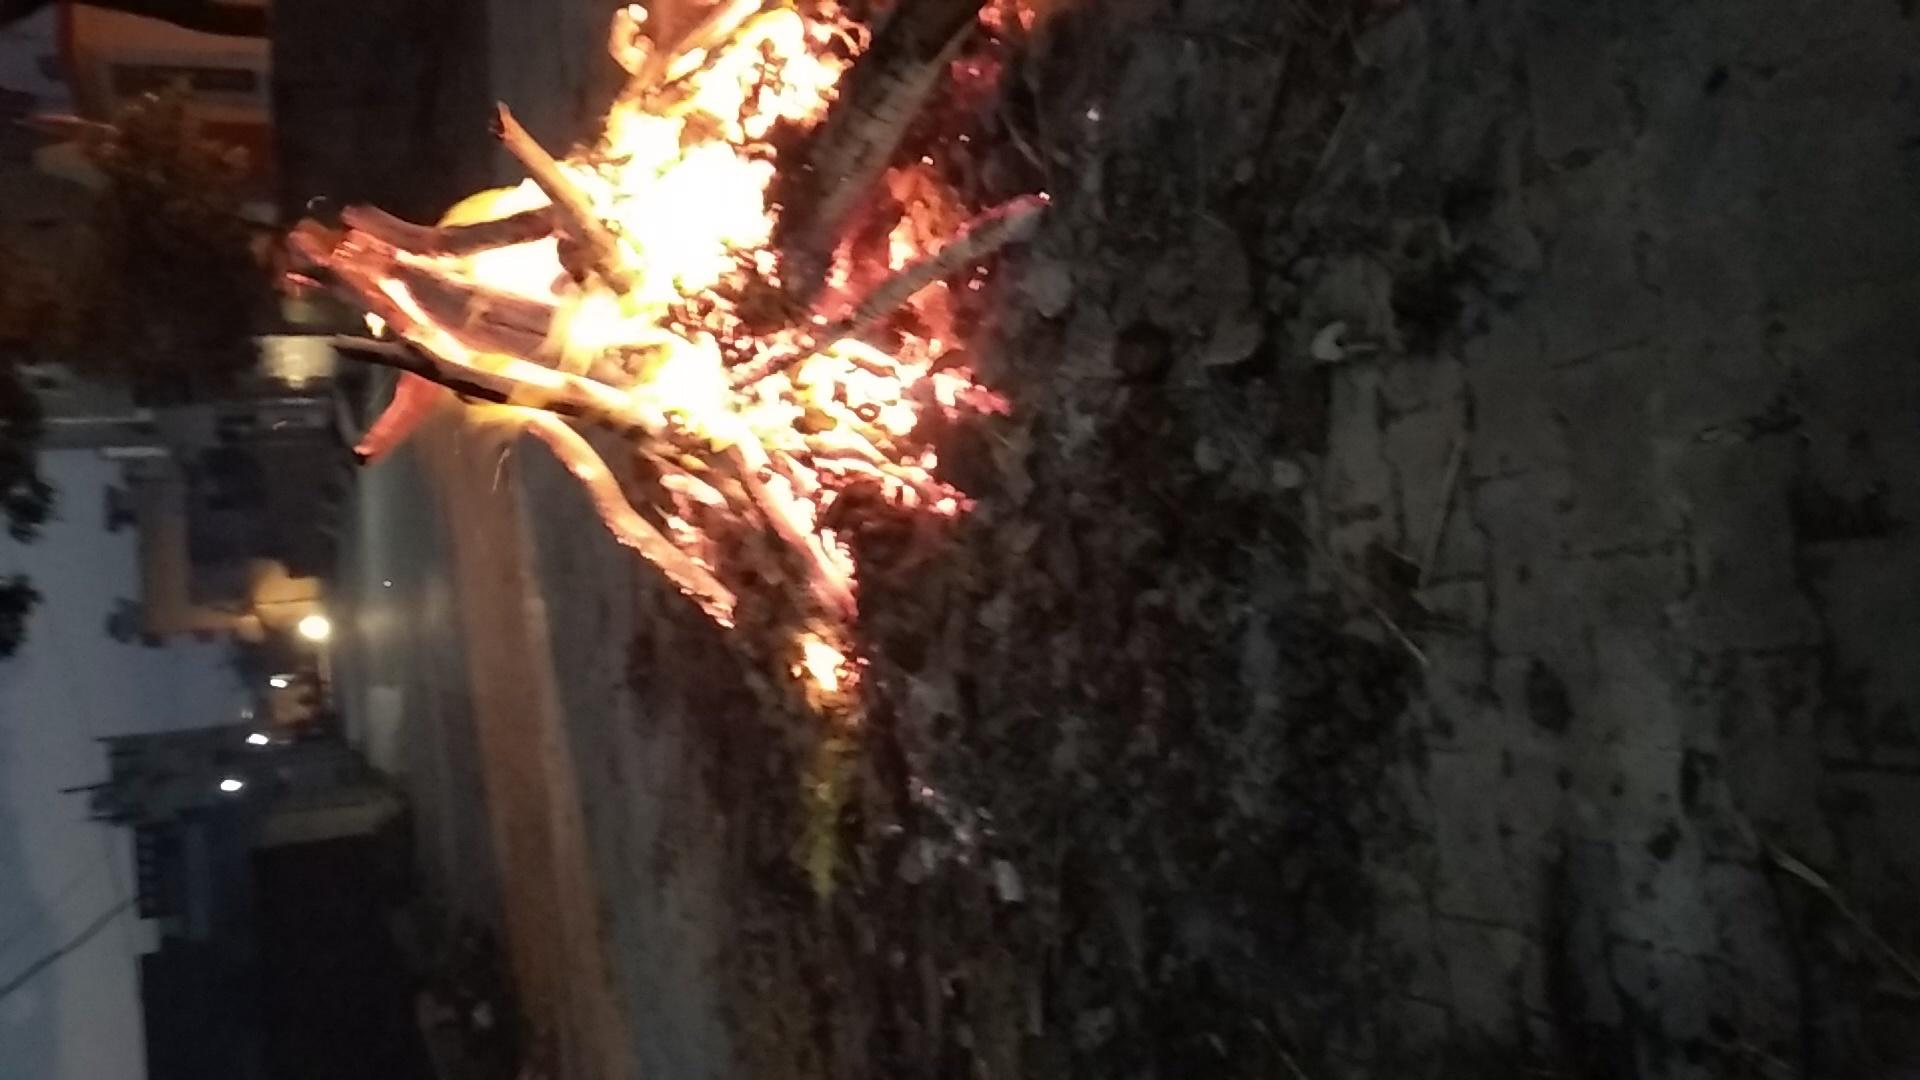fire: (454, 62, 918, 562)
